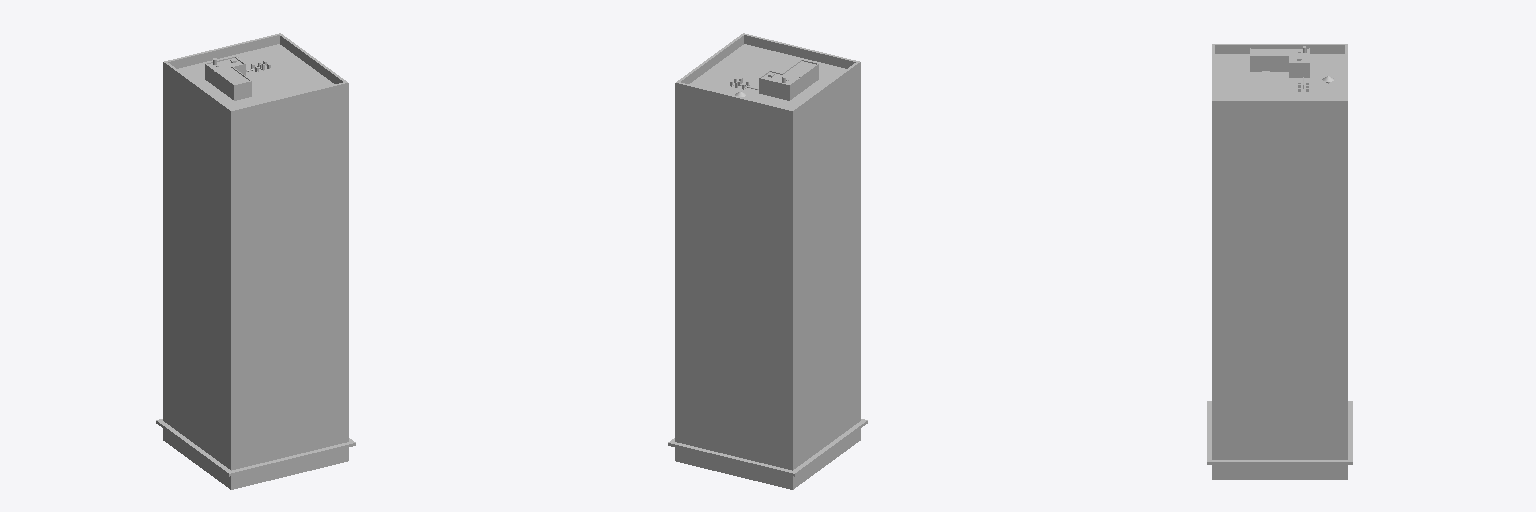
The model's file is budynek4.obj.
The picture shows the model from 3 angles: view 1: azimuth 30°, elevation 25°; view 2: azimuth 150°, elevation 25°; view 3: azimuth 270°, elevation 25°; orthographic projection.
Visible parts, largest first — view 1: HighRise2_Cube.011; view 2: HighRise2_Cube.011; view 3: HighRise2_Cube.011.
Boxes of the visible parts, <box> form: HighRise2_Cube.011: <box>156,33,355,489</box>; HighRise2_Cube.011: <box>668,33,867,489</box>; HighRise2_Cube.011: <box>1207,44,1352,479</box>.
Bounding box in the file's own units: 2.16 × 6.35 × 2.16.